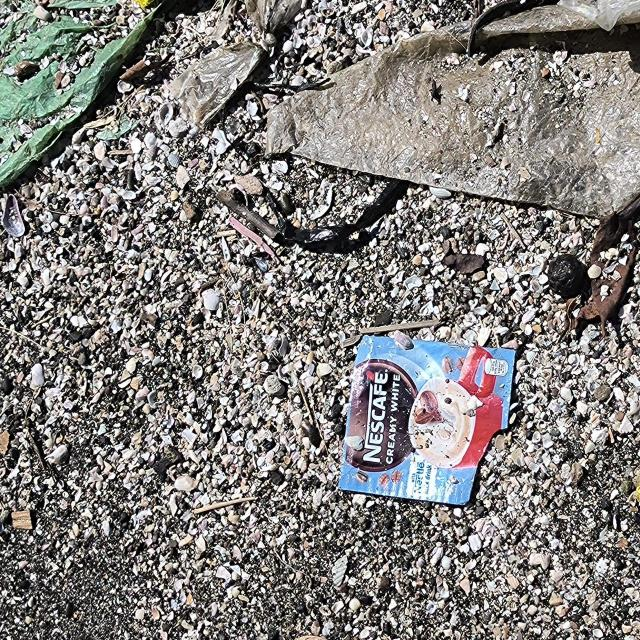plastic_waste: (341, 336, 517, 506)
